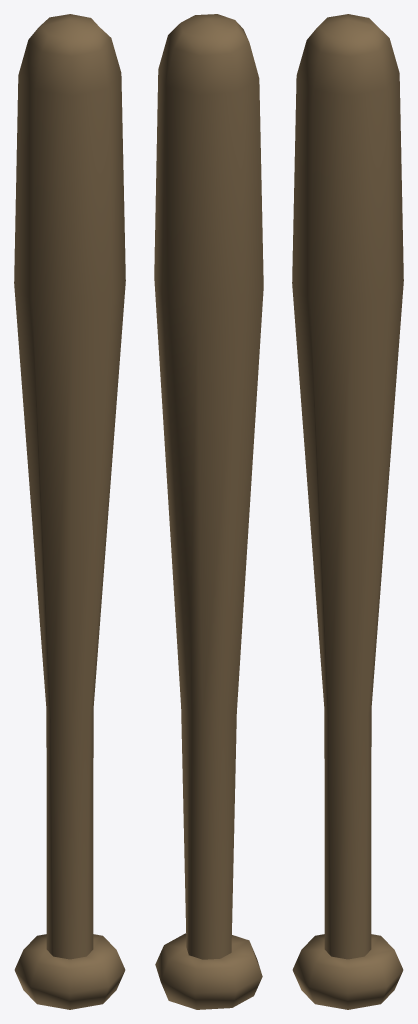
Rendered from Bob's_Bat.fbx.
The picture shows the model from 3 angles, left to right: view 1: azimuth 90°, elevation 25°; view 2: azimuth 210°, elevation 25°; view 3: azimuth 270°, elevation 25°; orthographic projection.
Parts seen in each view (by area): view 1: pCube3; view 2: pCube3; view 3: pCube3.
Part boxes in pixels (x1,y1,x2,y2): pCube3: [14, 14, 125, 1009]; pCube3: [154, 14, 263, 1009]; pCube3: [292, 14, 403, 1009].
Bounding box in the file's own units: 4.83 × 4.83 × 46.33.
